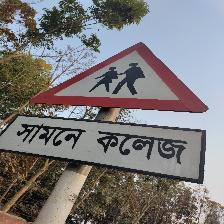College-in-front: (0, 27, 222, 186)
